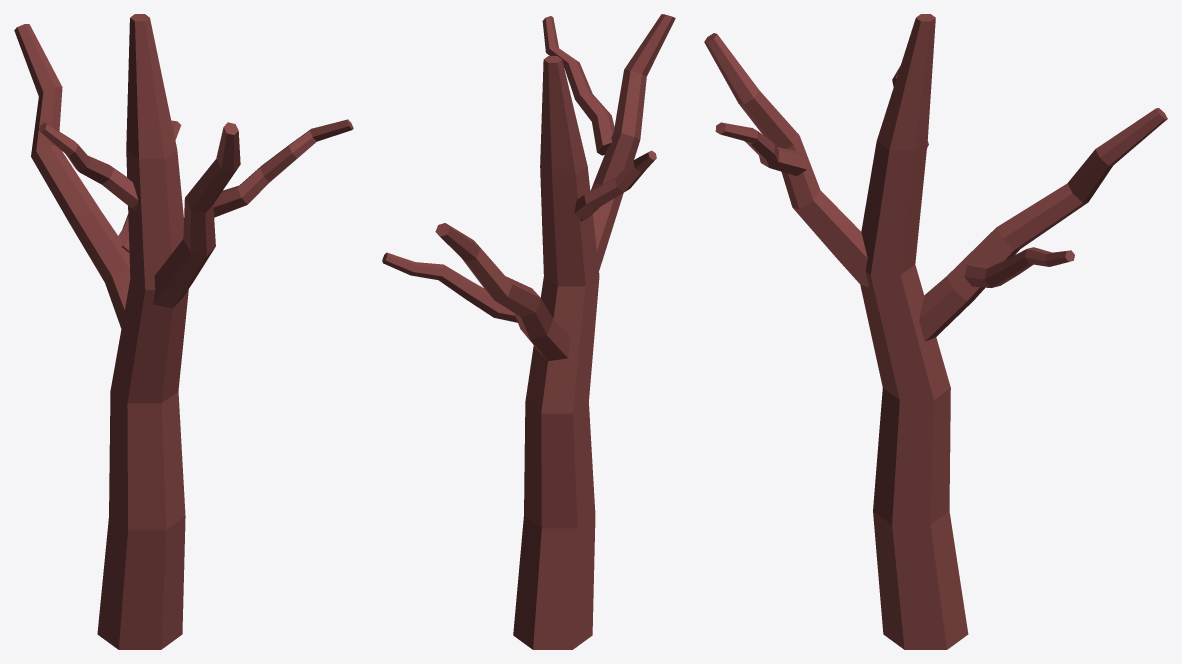
Rendered from Tree_2.glb.
3 renders of one model, left to right at view 1: azimuth 30°, elevation 25°; view 2: azimuth 150°, elevation 25°; view 3: azimuth 270°, elevation 25°, orthographic. The views are drawn at different scales.
Visible parts, largest first — view 1: Cylinder; view 2: Cylinder; view 3: Cylinder.
Boxes of the visible parts, x1,y1,x2,y2 form: Cylinder: [14, 14, 353, 649]; Cylinder: [382, 14, 675, 649]; Cylinder: [704, 14, 1167, 649].
Size of the model in its own units: 2.94 by 8 by 5.45.
